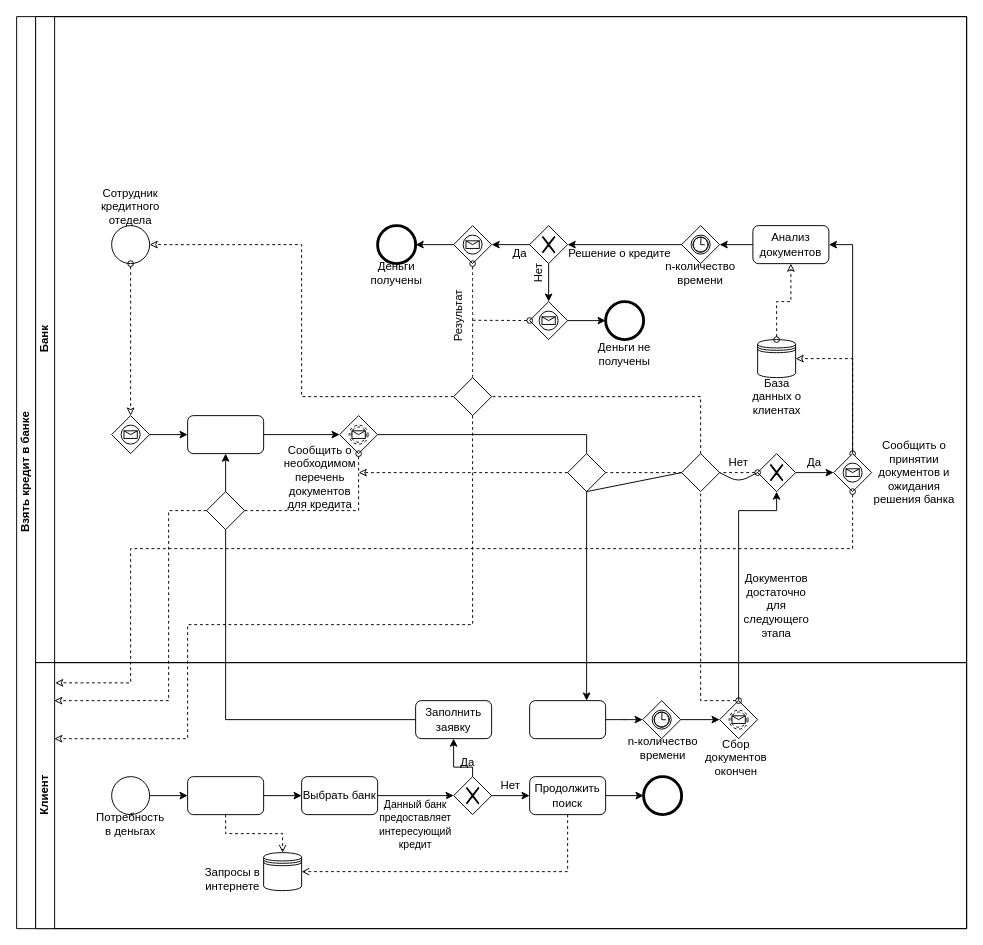
This 983x945 diagram has some shape labels left out. Here are the shapes that lost their labels. From the top down, the centre of each, then its label:
(225,434): Принять заявку
(567,719): Сбор документов
(225,795): Выбрать тип кредита
